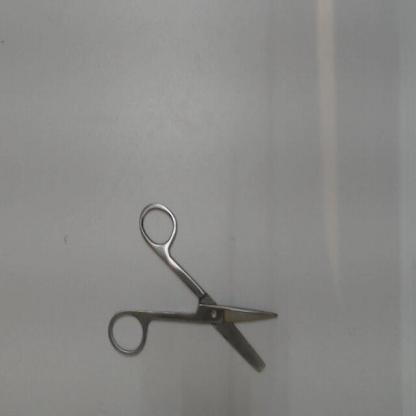Dressing Scissors: (101, 192, 294, 388)
